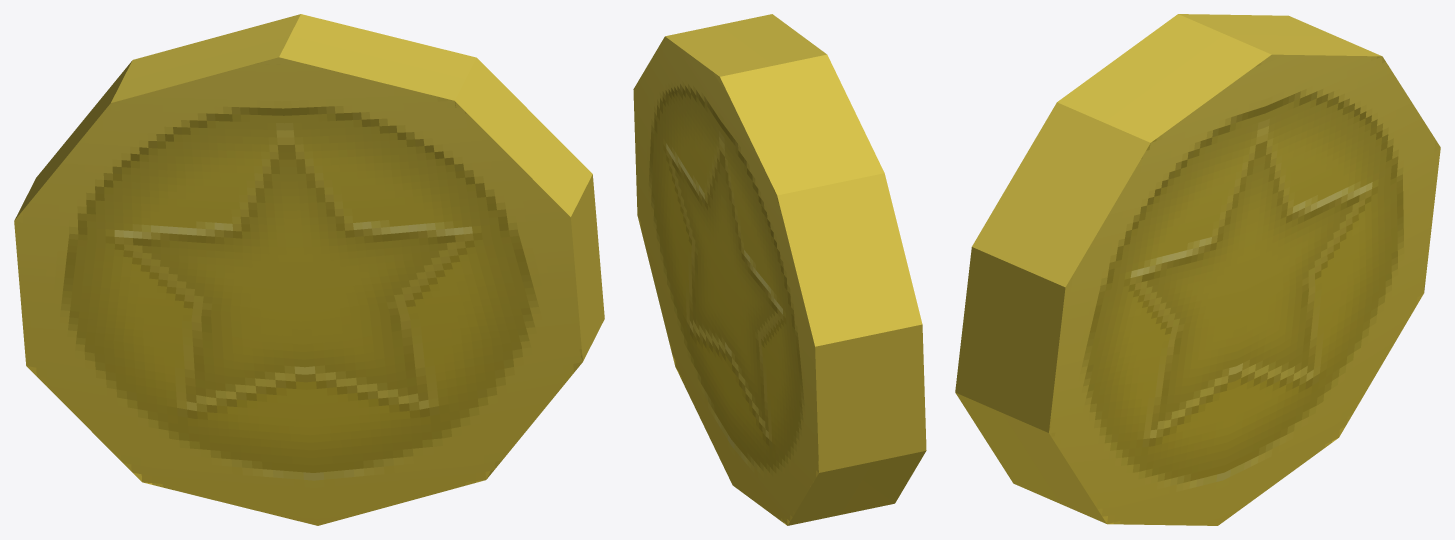
Rendered from coin_1_lev1_lev2.glb.
3 renders of one model, left to right at view 1: azimuth 30°, elevation 25°; view 2: azimuth 150°, elevation 25°; view 3: azimuth 270°, elevation 25°, orthographic. The views are drawn at different scales.
Visible parts, largest first — view 1: coin_1_lev1_lev2; view 2: coin_1_lev1_lev2; view 3: coin_1_lev1_lev2.
Part boxes in pixels (x1,y1,x2,y2): coin_1_lev1_lev2: (14,14,604,525); coin_1_lev1_lev2: (633,14,926,525); coin_1_lev1_lev2: (955,14,1440,525).
Size of the model in its own units: 3.14 by 3.09 by 2.88.
Materials: 1 (1 with a texture image).
